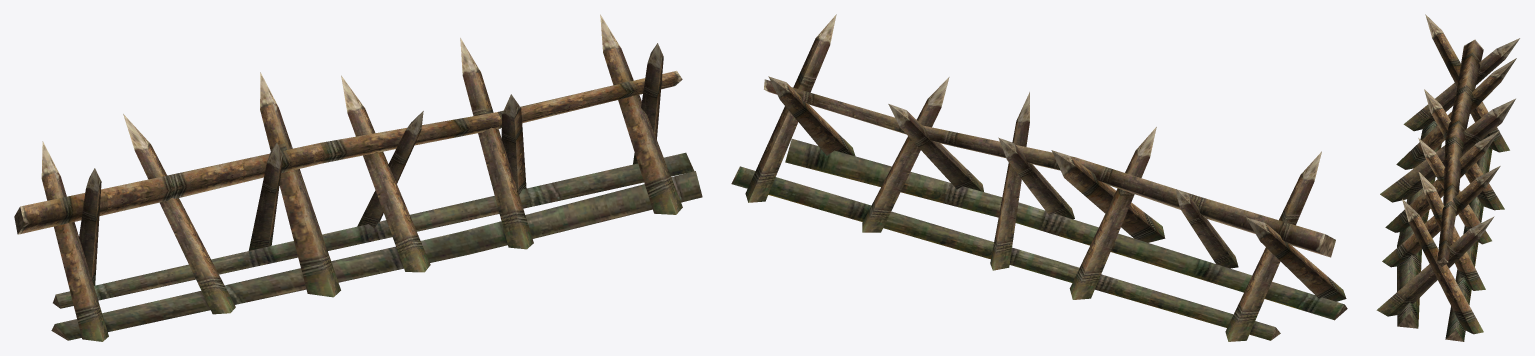
The model's file is ZhaLan.FBX.
3 renders of one model, left to right at view 1: azimuth 30°, elevation 25°; view 2: azimuth 150°, elevation 25°; view 3: azimuth 270°, elevation 25°, orthographic. The views are drawn at different scales.
Visible parts, largest first — view 1: DrawCall_0193; view 2: DrawCall_0193; view 3: DrawCall_0193.
Part boxes in pixels (bbox=[...]): DrawCall_0193: bbox=[14, 14, 702, 341]; DrawCall_0193: bbox=[731, 14, 1347, 341]; DrawCall_0193: bbox=[1376, 14, 1519, 341].
Size of the model in its own units: 11.28 by 3.04 by 2.92.
Materials: 1 (1 with a texture image).
